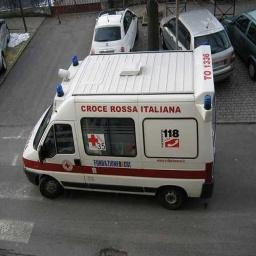ambulance: (23, 46, 213, 208)
